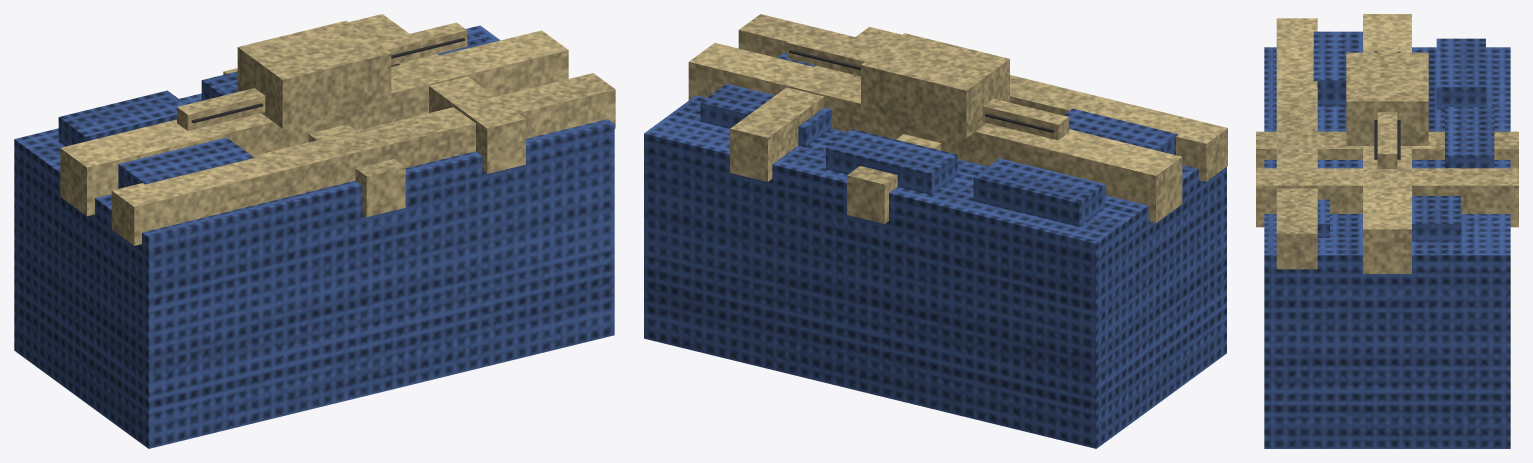
The model's file is travel_bundle.fbx.
The picture shows the model from 3 angles, left to right: view 1: azimuth 30°, elevation 25°; view 2: azimuth 150°, elevation 25°; view 3: azimuth 270°, elevation 25°; orthographic projection. The views are drawn at different scales.
Parts seen in each view (by area): view 1: travel_bundle; view 2: travel_bundle; view 3: travel_bundle.
Boxes of the visible parts, x1,y1,x2,y2 form: travel_bundle: (14,14,615,448); travel_bundle: (644,14,1227,448); travel_bundle: (1256,14,1518,448).
Size of the model in its own units: 62 by 36 by 32.
